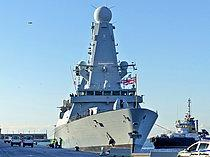MIL_Ship: (45, 4, 156, 151)
